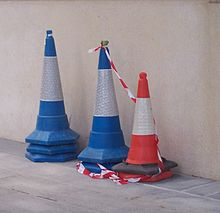cone: (18, 23, 85, 167), (74, 38, 135, 169), (109, 72, 183, 179)
